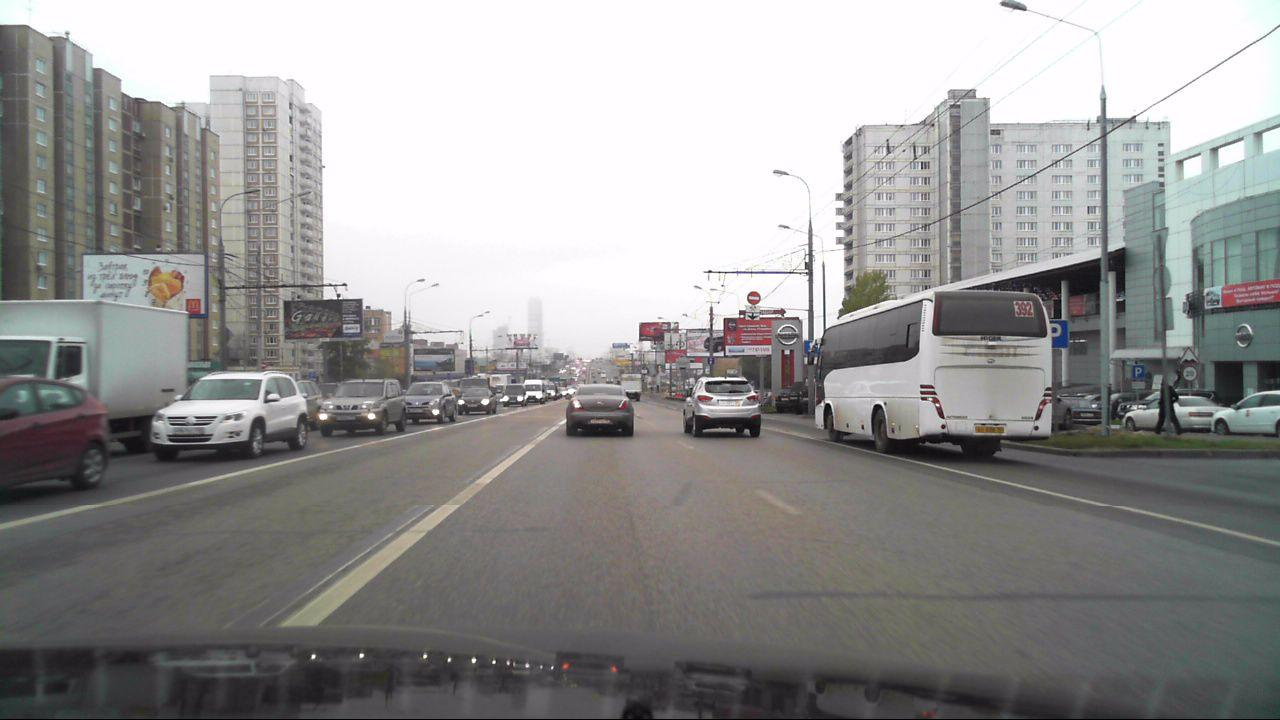road_sign: (1179, 345, 1203, 365), (1131, 363, 1145, 378), (748, 290, 761, 304)
